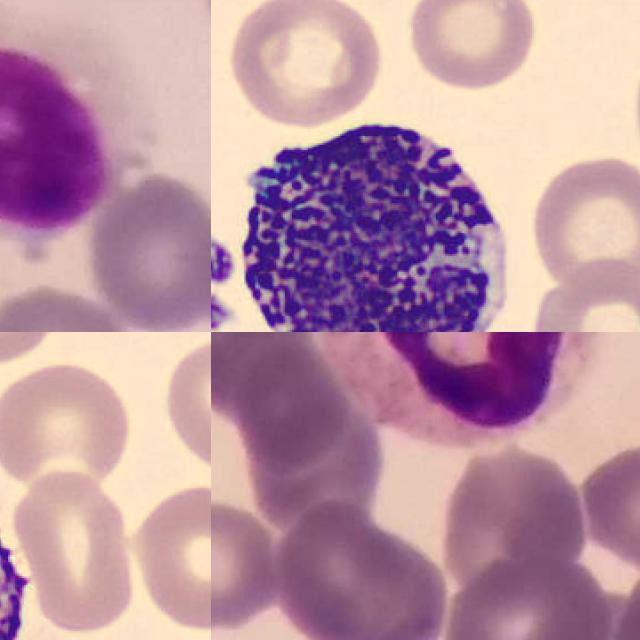Basophil: (219, 97, 519, 332)
Lymphocyte: (0, 5, 154, 245)
Neutrophil: (329, 332, 602, 446)
Platelets: (211, 234, 237, 289), (211, 291, 235, 332)
RBC: (12, 465, 142, 638), (222, 0, 384, 130), (0, 357, 132, 495), (524, 148, 640, 296), (123, 479, 211, 634), (404, 0, 539, 97), (526, 257, 640, 332), (159, 332, 211, 482)
